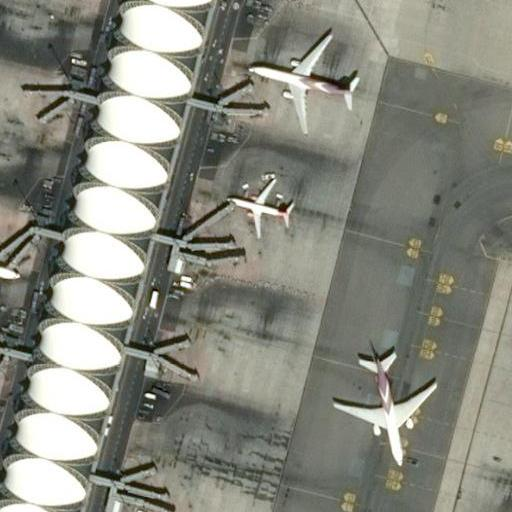Aircraft: (329, 343, 436, 470), (247, 26, 362, 132), (226, 176, 295, 240), (0, 200, 16, 310)
